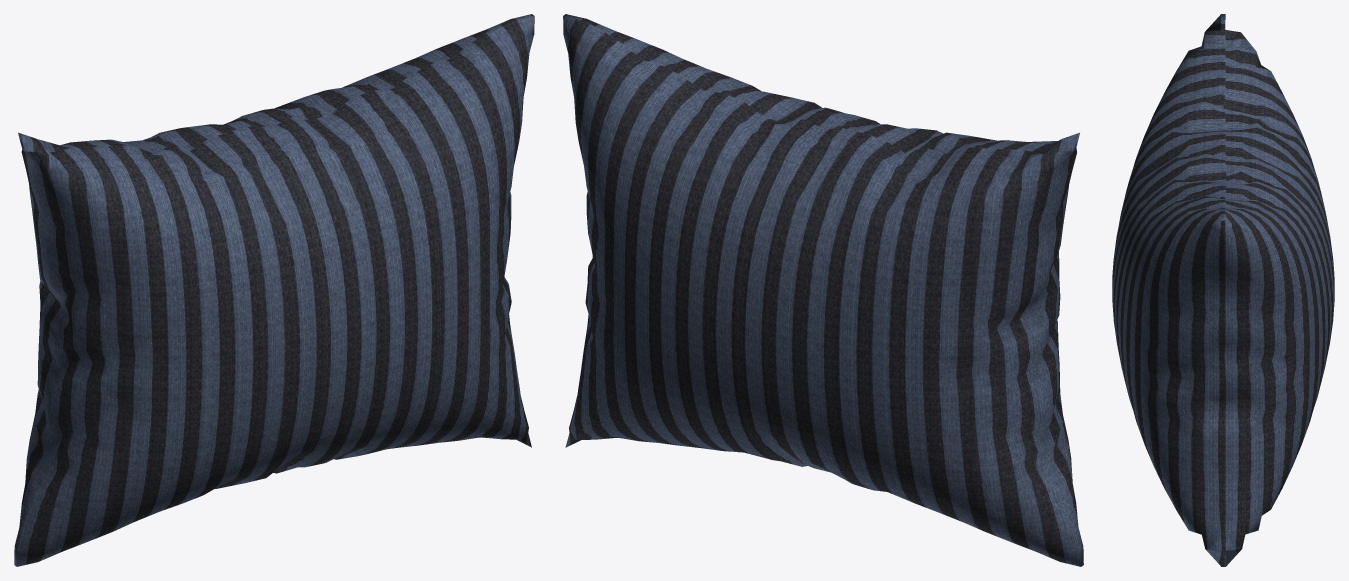
File: obj_pillow_76c11a.glb
The picture shows the model from 3 angles, left to right: view 1: azimuth 30°, elevation 25°; view 2: azimuth 150°, elevation 25°; view 3: azimuth 270°, elevation 25°; orthographic projection. The views are drawn at different scales.
Visible parts, largest first — view 1: obj_pillow_76c11a; view 2: obj_pillow_76c11a; view 3: obj_pillow_76c11a.
Boxes of the visible parts, x1=… form: obj_pillow_76c11a: x1=14, y1=14, x2=534, y2=566; obj_pillow_76c11a: x1=563, y1=14, x2=1083, y2=566; obj_pillow_76c11a: x1=1112, y1=14, x2=1334, y2=566.
Bounding box in the file's own units: 0.5 × 0.4043 × 0.2315.
1 material, 1 textured.
